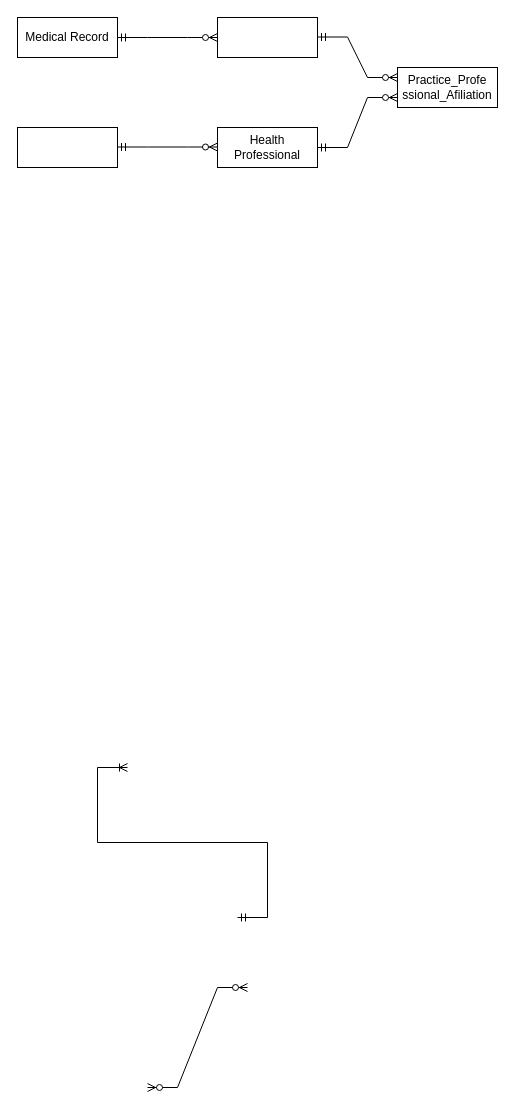
Some shapes in this 515 by 1114 pixel diagram are drawn without their labels. Here are the shapes that lost their labels. From the top down, the box of each, then its label:
(216, 16, 318, 58): Practice
(16, 126, 118, 168): Speciality
